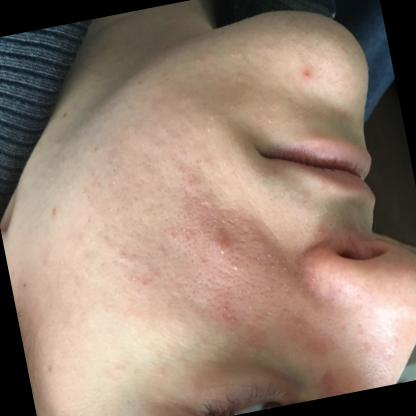Acne: (296, 61, 316, 86)
